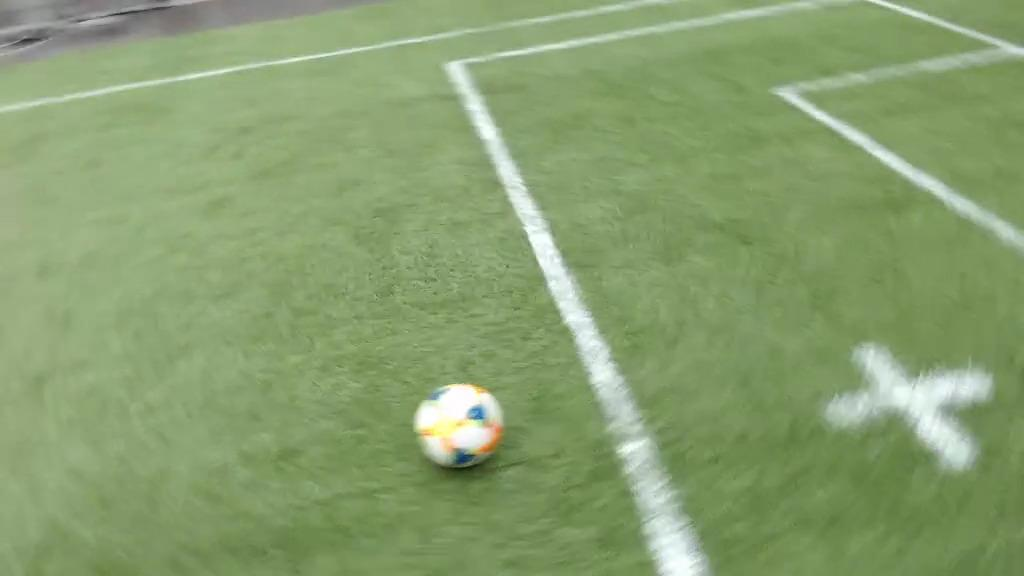ball: (393, 365, 514, 474)
